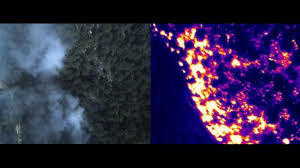smoke: (1, 24, 81, 140)
